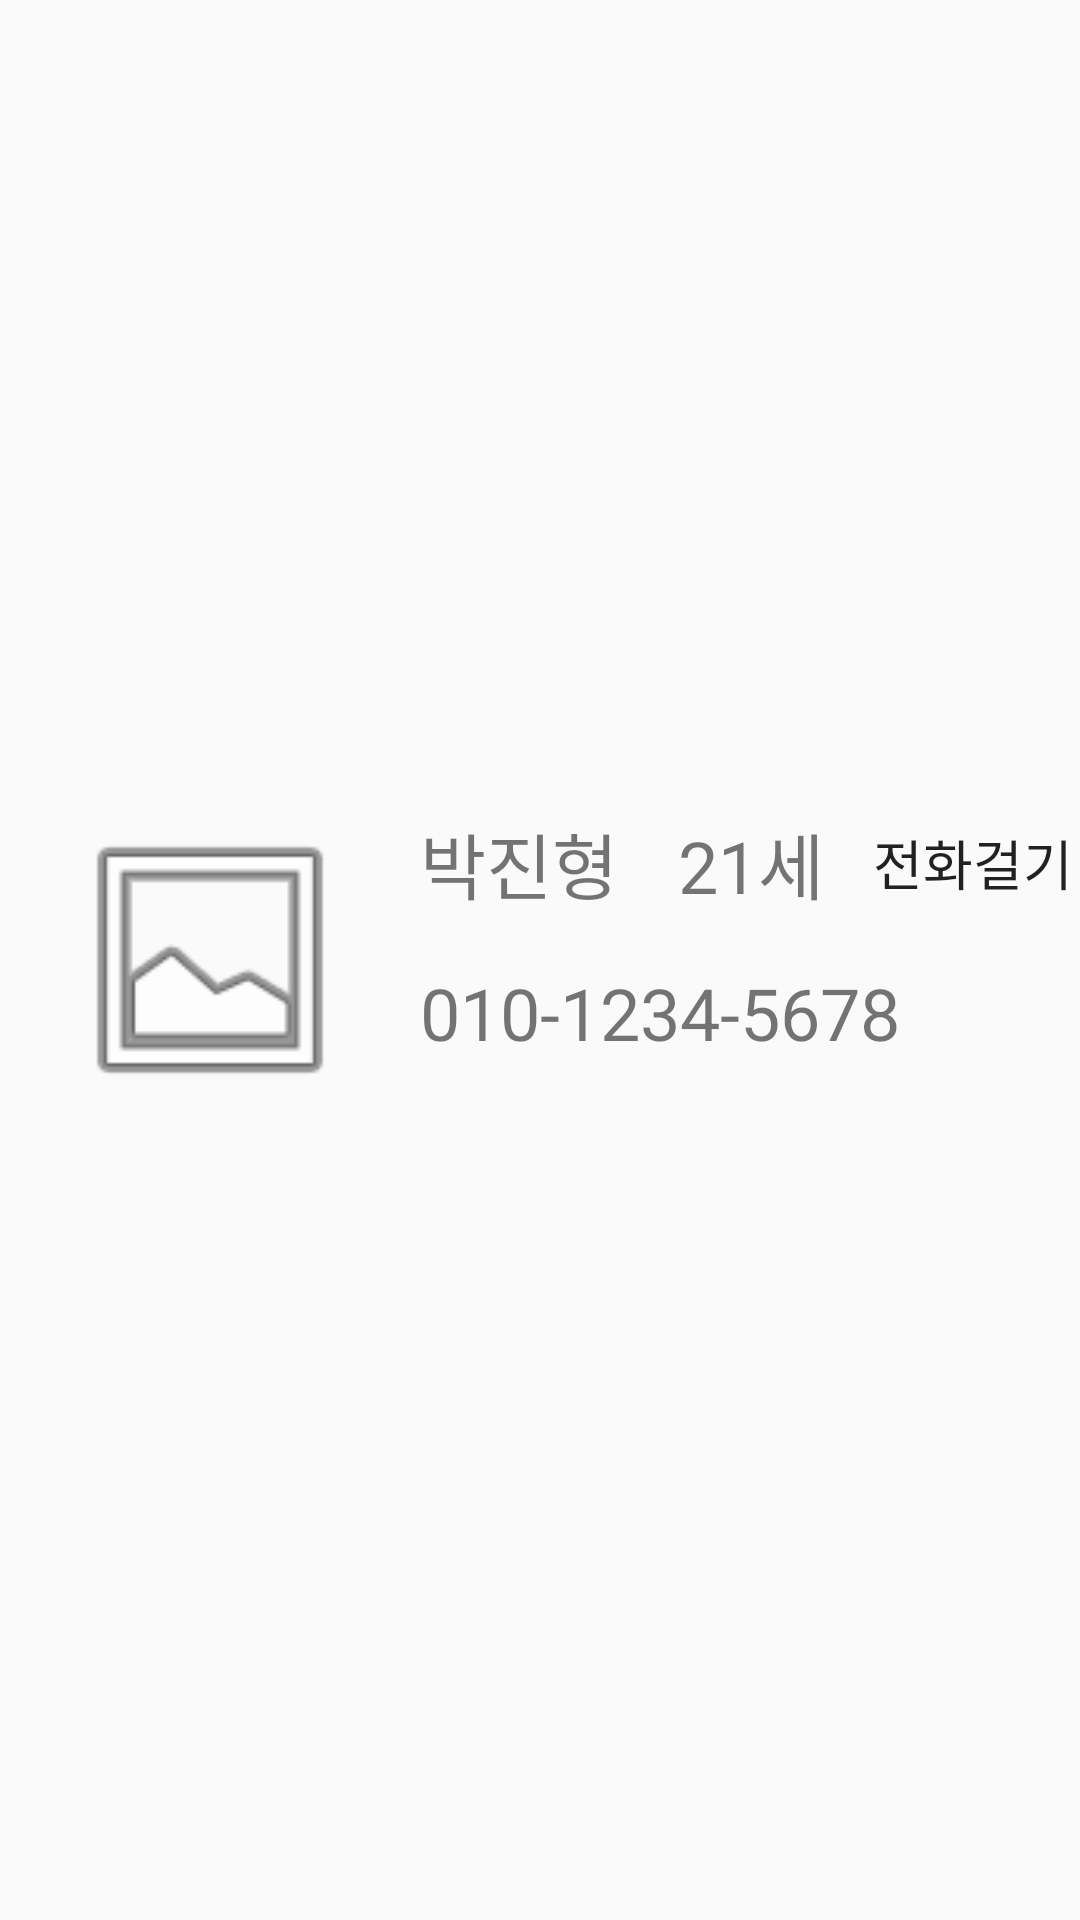

Icon bounding boxes for this 1080 × 1920 phone screenshot, format (x1, y1, x2, y2):
gallery: (97, 847, 323, 1073)
